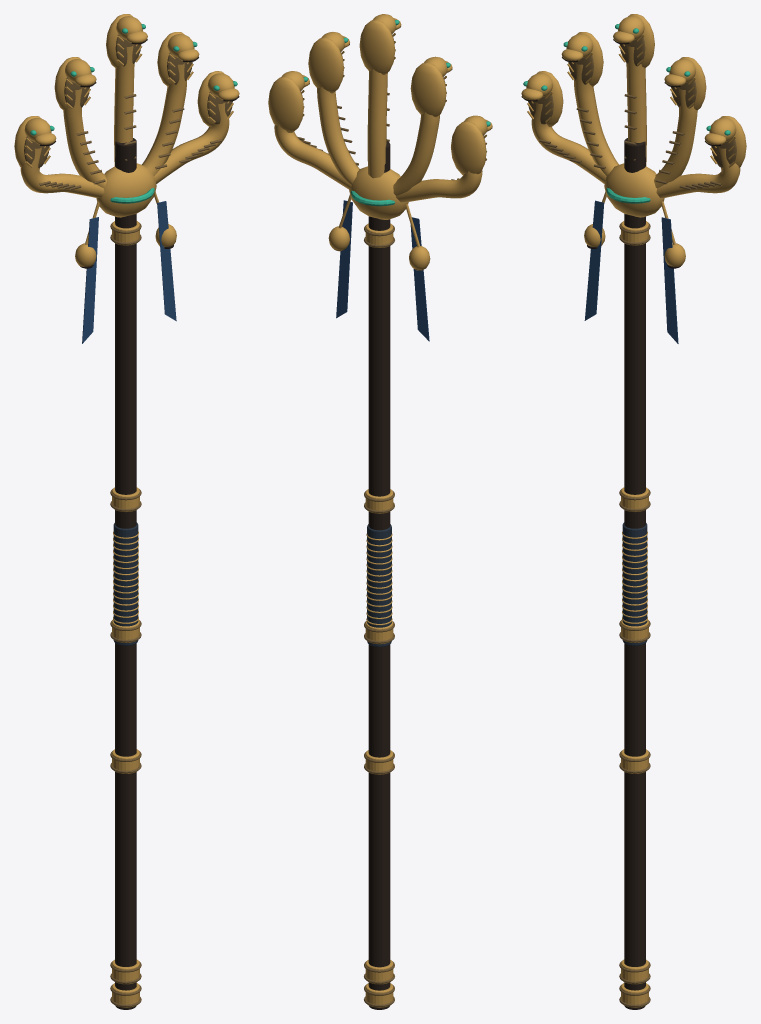
Rendered from EDH_Sariwa_Naga_Staff.glb.
3 renders of one model, left to right at view 1: azimuth 30°, elevation 25°; view 2: azimuth 150°, elevation 25°; view 3: azimuth 330°, elevation 25°, orthographic.
Visible parts, largest first — view 1: Staff | blackwood shaft, Staff | reinforced grip, Staff | crown socket, Naga 3 | curved neck, Naga 2 | curved neck, Naga 1 | curved neck, Naga 0 | curved neck, Naga 4 | curved neck, Staff | blue textile ribbon.001, Staff | blue textile ribbon; view 2: Staff | blackwood shaft, Staff | reinforced grip, Naga 2 | curved neck, Naga 3 | curved neck, Staff | crown socket, Naga 1 | curved neck, Naga 4 | hood, Naga 3 | hood, Naga 2 | hood, Naga 0 | hood, Naga 1 | hood, Naga 0 | curved neck (+3 smaller); view 3: Staff | blackwood shaft, Staff | reinforced grip, Staff | crown socket, Naga 1 | curved neck, Naga 2 | curved neck, Naga 3 | curved neck, Naga 4 | curved neck, Naga 0 | curved neck, Staff | blue textile ribbon.001, Staff | blue textile ribbon.
Boxes of the visible parts, left/top/right/bottom form: Staff | blackwood shaft: left=115, top=138, right=136, bottom=1009; Staff | reinforced grip: left=113, top=522, right=138, bottom=645; Staff | crown socket: left=96, top=163, right=156, bottom=217; Naga 3 | curved neck: left=142, top=63, right=186, bottom=175; Naga 2 | curved neck: left=114, top=45, right=134, bottom=165; Naga 1 | curved neck: left=63, top=88, right=106, bottom=188; Naga 0 | curved neck: left=20, top=147, right=104, bottom=197; Naga 4 | curved neck: left=154, top=102, right=229, bottom=183; Staff | blue textile ribbon.001: left=157, top=201, right=176, bottom=321; Staff | blue textile ribbon: left=82, top=217, right=98, bottom=343; Staff | blackwood shaft: left=368, top=141, right=390, bottom=1009; Staff | reinforced grip: left=367, top=524, right=391, bottom=646; Naga 2 | curved neck: left=367, top=69, right=387, bottom=178; Naga 3 | curved neck: left=317, top=87, right=359, bottom=184; Staff | crown socket: left=349, top=166, right=408, bottom=219; Naga 1 | curved neck: left=393, top=112, right=440, bottom=195; Naga 4 | hood: left=268, top=77, right=303, bottom=132; Naga 3 | hood: left=308, top=38, right=343, bottom=93; Naga 2 | hood: left=359, top=20, right=395, bottom=74; Naga 0 | hood: left=451, top=121, right=486, bottom=175; Naga 1 | hood: left=410, top=63, right=446, bottom=117; Naga 0 | curved neck: left=396, top=170, right=482, bottom=202; Staff | blackwood shaft: left=624, top=138, right=645, bottom=1009; Staff | reinforced grip: left=622, top=522, right=647, bottom=645; Staff | crown socket: left=604, top=163, right=664, bottom=217; Naga 1 | curved neck: left=574, top=63, right=618, bottom=175; Naga 2 | curved neck: left=626, top=45, right=646, bottom=165; Naga 3 | curved neck: left=654, top=88, right=697, bottom=188; Naga 4 | curved neck: left=656, top=147, right=740, bottom=197; Naga 0 | curved neck: left=531, top=102, right=606, bottom=183; Staff | blue textile ribbon.001: left=661, top=217, right=678, bottom=343; Staff | blue textile ribbon: left=584, top=200, right=604, bottom=320.
Bounding box in the file's own units: 0.488 × 2.12 × 0.118.
